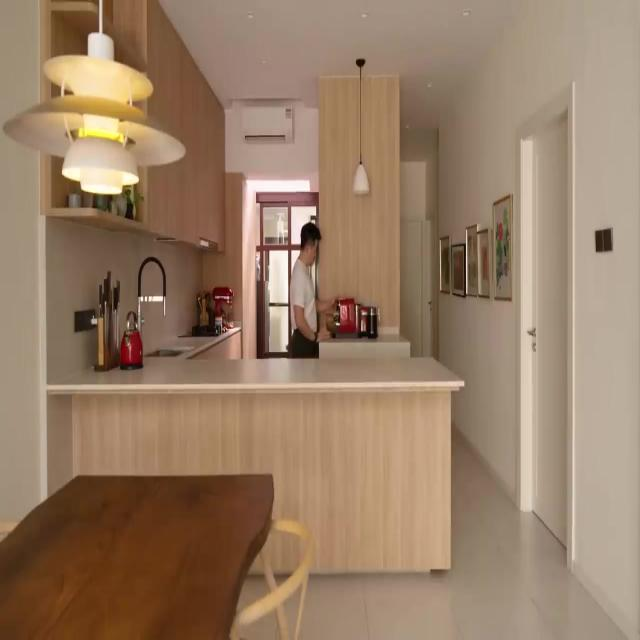door: (525, 134, 571, 544), (256, 191, 318, 357)
obstacle: (0, 472, 274, 638), (230, 517, 313, 639)
person: (288, 222, 338, 358)
